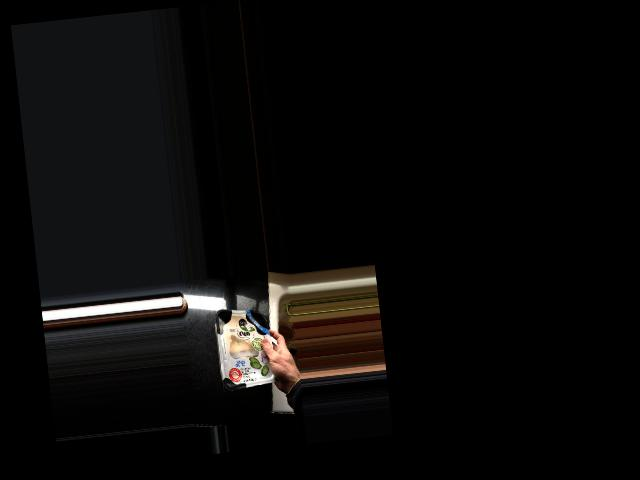cheese: (214, 305, 282, 391)
